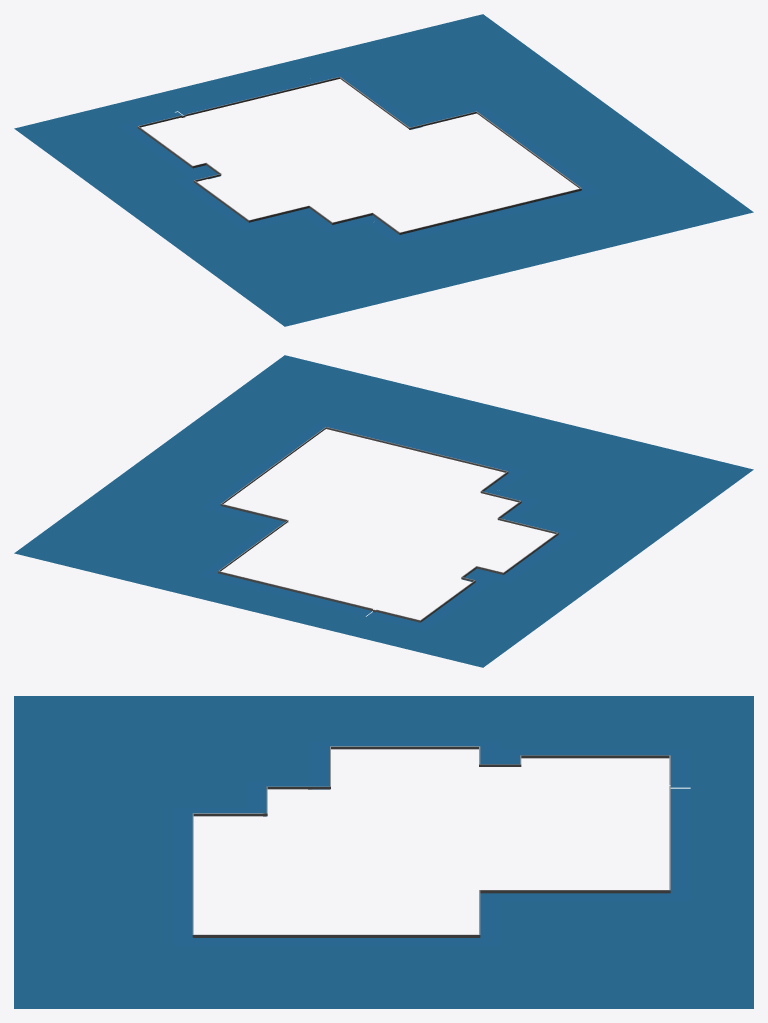
File: WaterSystem_hub.FBX
3 renders of one model, top to bottom at view 1: azimuth 30°, elevation 25°; view 2: azimuth 150°, elevation 25°; view 3: azimuth 270°, elevation 25°, orthographic. The views are drawn at different scales.
Parts seen in each view (by area): view 1: Outside Water, Env_Seawall_Corner_03; view 2: Outside Water, Env_Seawall_Corner_03; view 3: Outside Water, Env_Seawall_Corner_03.
Part boxes in pixels (left/top/right/bottom): Outside Water: left=14, top=14, right=753, bottom=326; Env_Seawall_Corner_03: left=118, top=70, right=601, bottom=243; Outside Water: left=14, top=355, right=753, bottom=667; Env_Seawall_Corner_03: left=198, top=420, right=578, bottom=630; Outside Water: left=14, top=696, right=753, bottom=1008; Env_Seawall_Corner_03: left=172, top=740, right=690, bottom=946.
Bounding box in the file's own units: 700000 × 4000 × 700000.
Materials: 2 (1 with a texture image).
